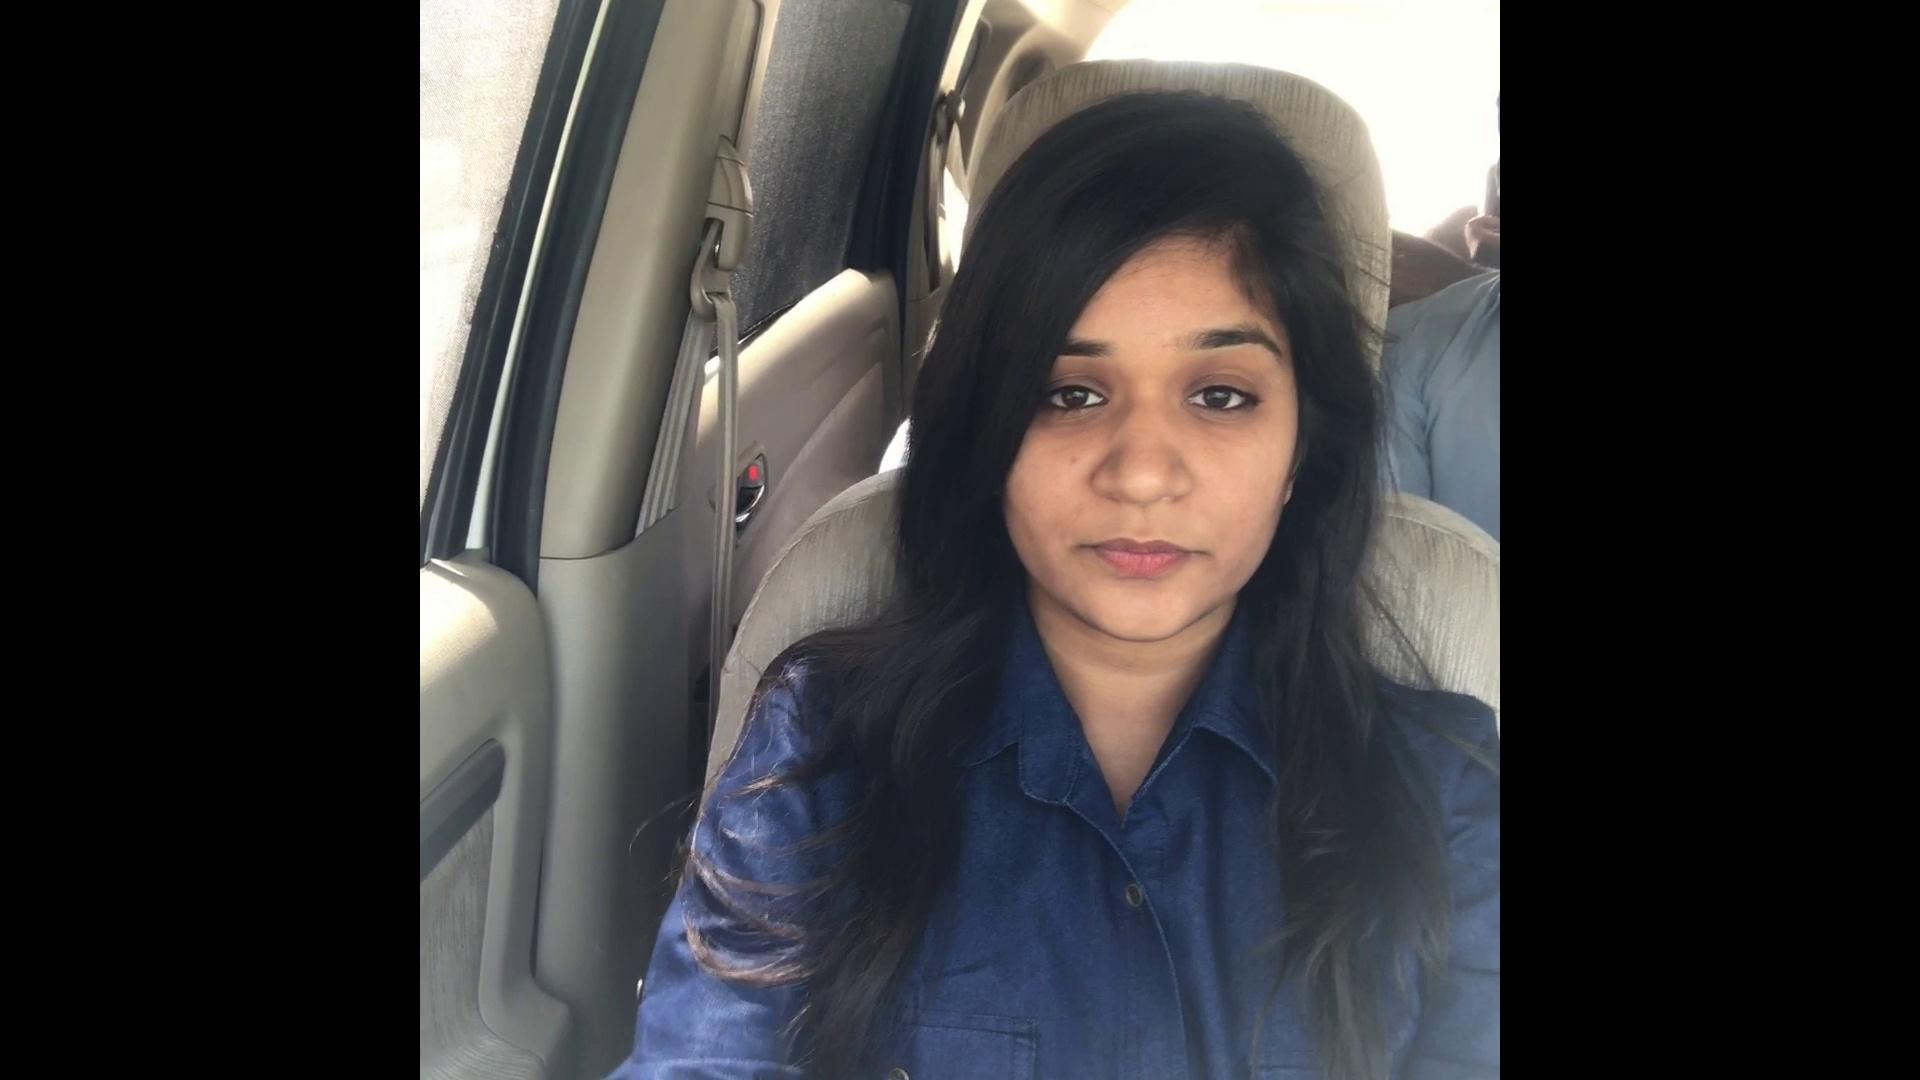Neutral: (884, 161, 1415, 669)
